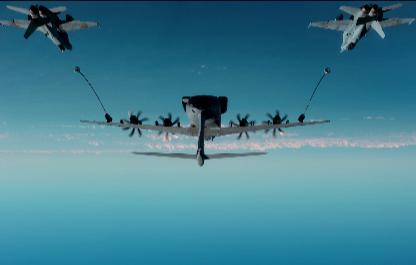A400M: (80, 94, 330, 166)
F15: (308, 1, 415, 53), (2, 4, 102, 52)
